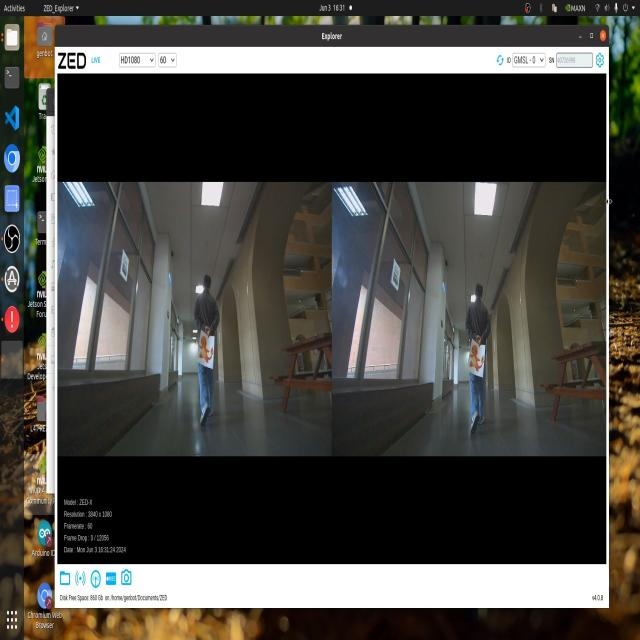red: (197, 326, 220, 366), (463, 346, 489, 378)
